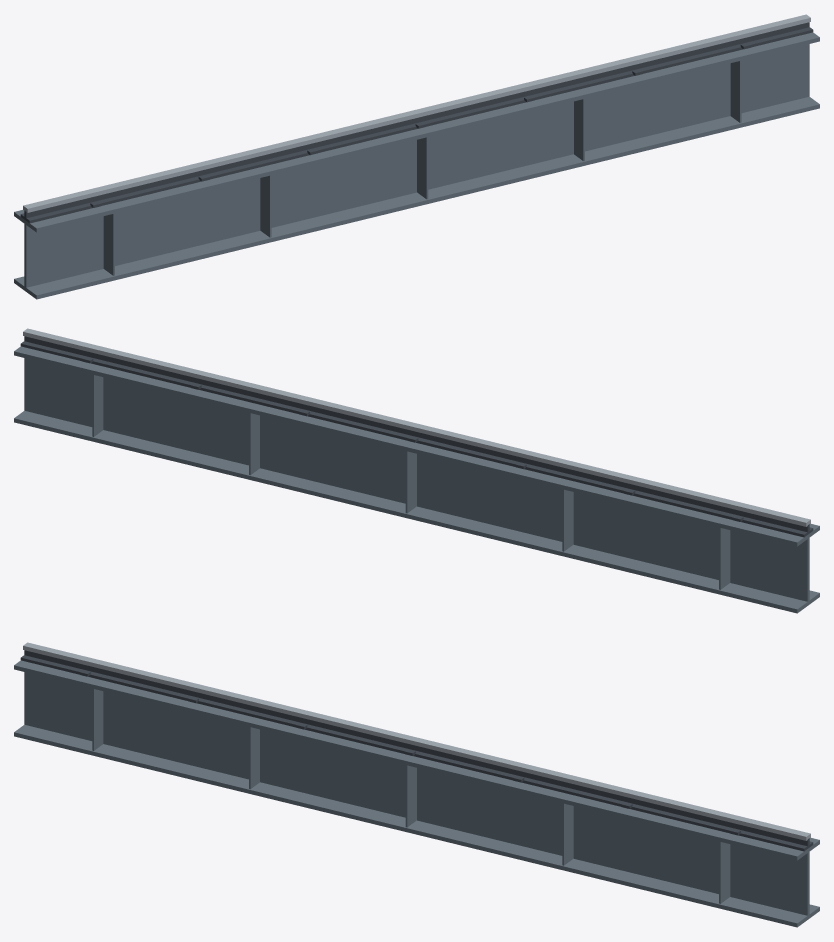
The model's file is viga_rolamento.glb.
3 views of the same model, one above another, from view 1: azimuth 30°, elevation 25°; view 2: azimuth 150°, elevation 25°; view 3: azimuth 330°, elevation 25° (orthographic).
Visible parts, largest first — view 1: alma, mesa_inferior, mesa_superior, boleto_trilho, base_trilho, alma_trilho, enrijecedor (×5); view 2: alma, mesa_inferior, mesa_superior, boleto_trilho, base_trilho, alma_trilho, enrijecedor (×5); view 3: alma, mesa_inferior, mesa_superior, boleto_trilho, base_trilho, alma_trilho, enrijecedor (×5).
Boxes of the visible parts, x1,y1,x2,y2 form: alma: [24, 44, 809, 287]; mesa_inferior: [14, 97, 819, 299]; mesa_superior: [14, 32, 819, 232]; boleto_trilho: [23, 14, 810, 212]; base_trilho: [20, 27, 813, 223]; alma_trilho: [24, 22, 809, 218]; enrijecedor (×5): [103, 60, 741, 275]; alma: [24, 358, 809, 601]; mesa_inferior: [14, 411, 819, 613]; mesa_superior: [14, 346, 819, 546]; boleto_trilho: [23, 328, 810, 526]; base_trilho: [20, 341, 813, 537]; alma_trilho: [24, 336, 809, 532]; enrijecedor (×5): [92, 374, 730, 589]; alma: [24, 672, 809, 915]; mesa_inferior: [14, 725, 819, 927]; mesa_superior: [14, 660, 819, 860]; boleto_trilho: [23, 642, 810, 840]; base_trilho: [20, 655, 813, 851]; alma_trilho: [24, 650, 809, 846]; enrijecedor (×5): [92, 688, 730, 903].
Bounding box in the file's own units: 6 × 0.615 × 0.3.
